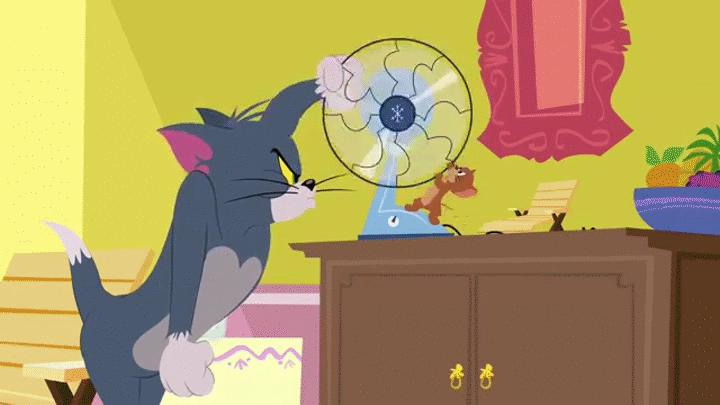tom: (41, 52, 365, 404)
